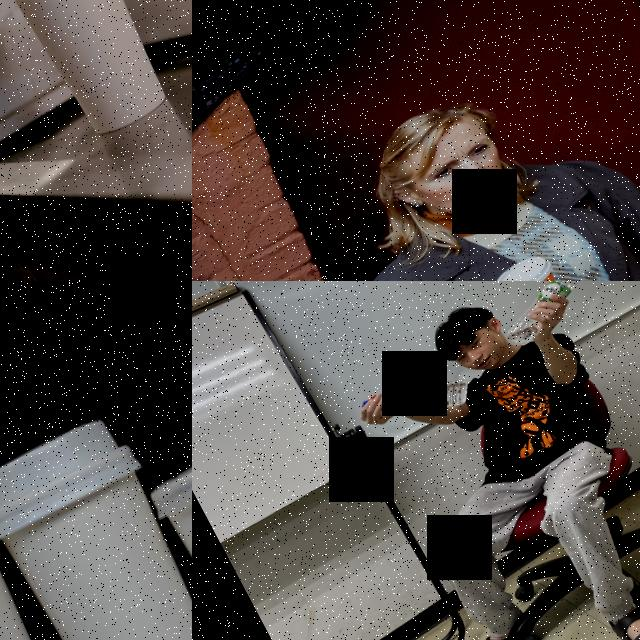bottle: (359, 353, 476, 447), (488, 281, 603, 352)
cup: (0, 405, 192, 640), (0, 419, 166, 640), (0, 0, 188, 146), (487, 246, 580, 281)
